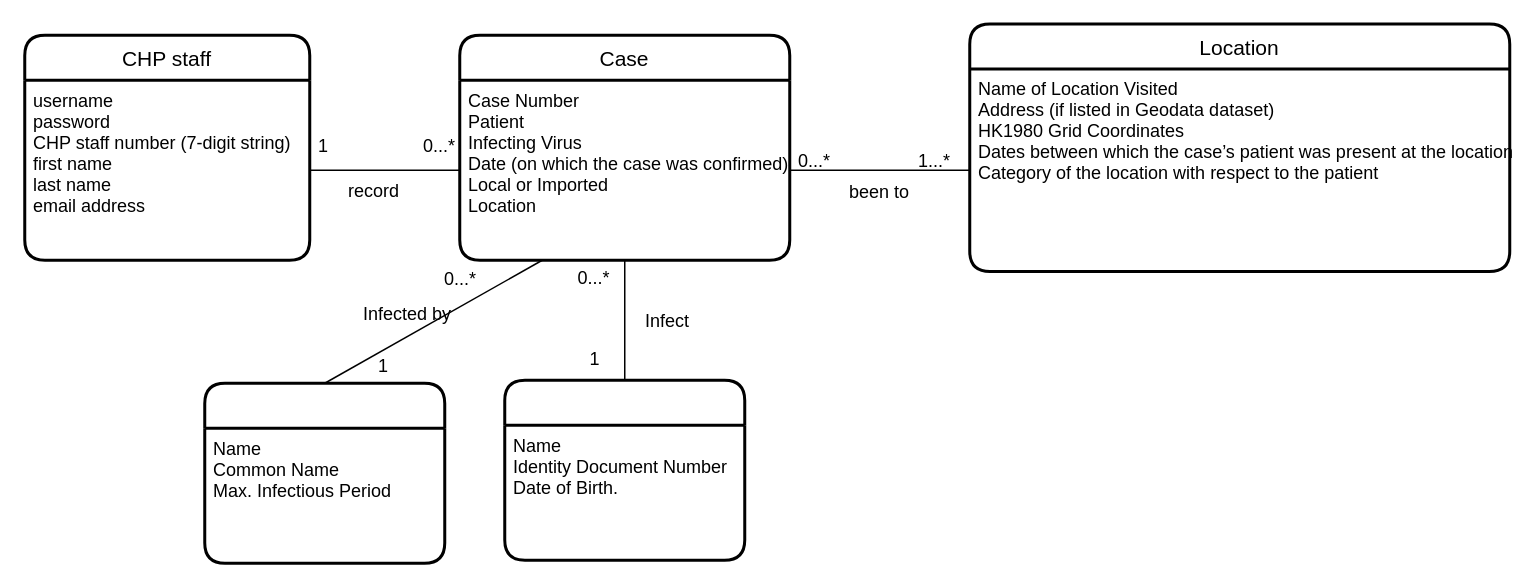
This 1538x588 diagram has some shape labels left out. Each missing label, with the box of its shape:
Patient: (502, 378, 746, 561)
Virus: (202, 381, 446, 564)
